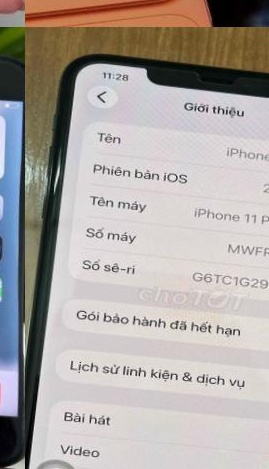scratch: (11, 382, 25, 446)
